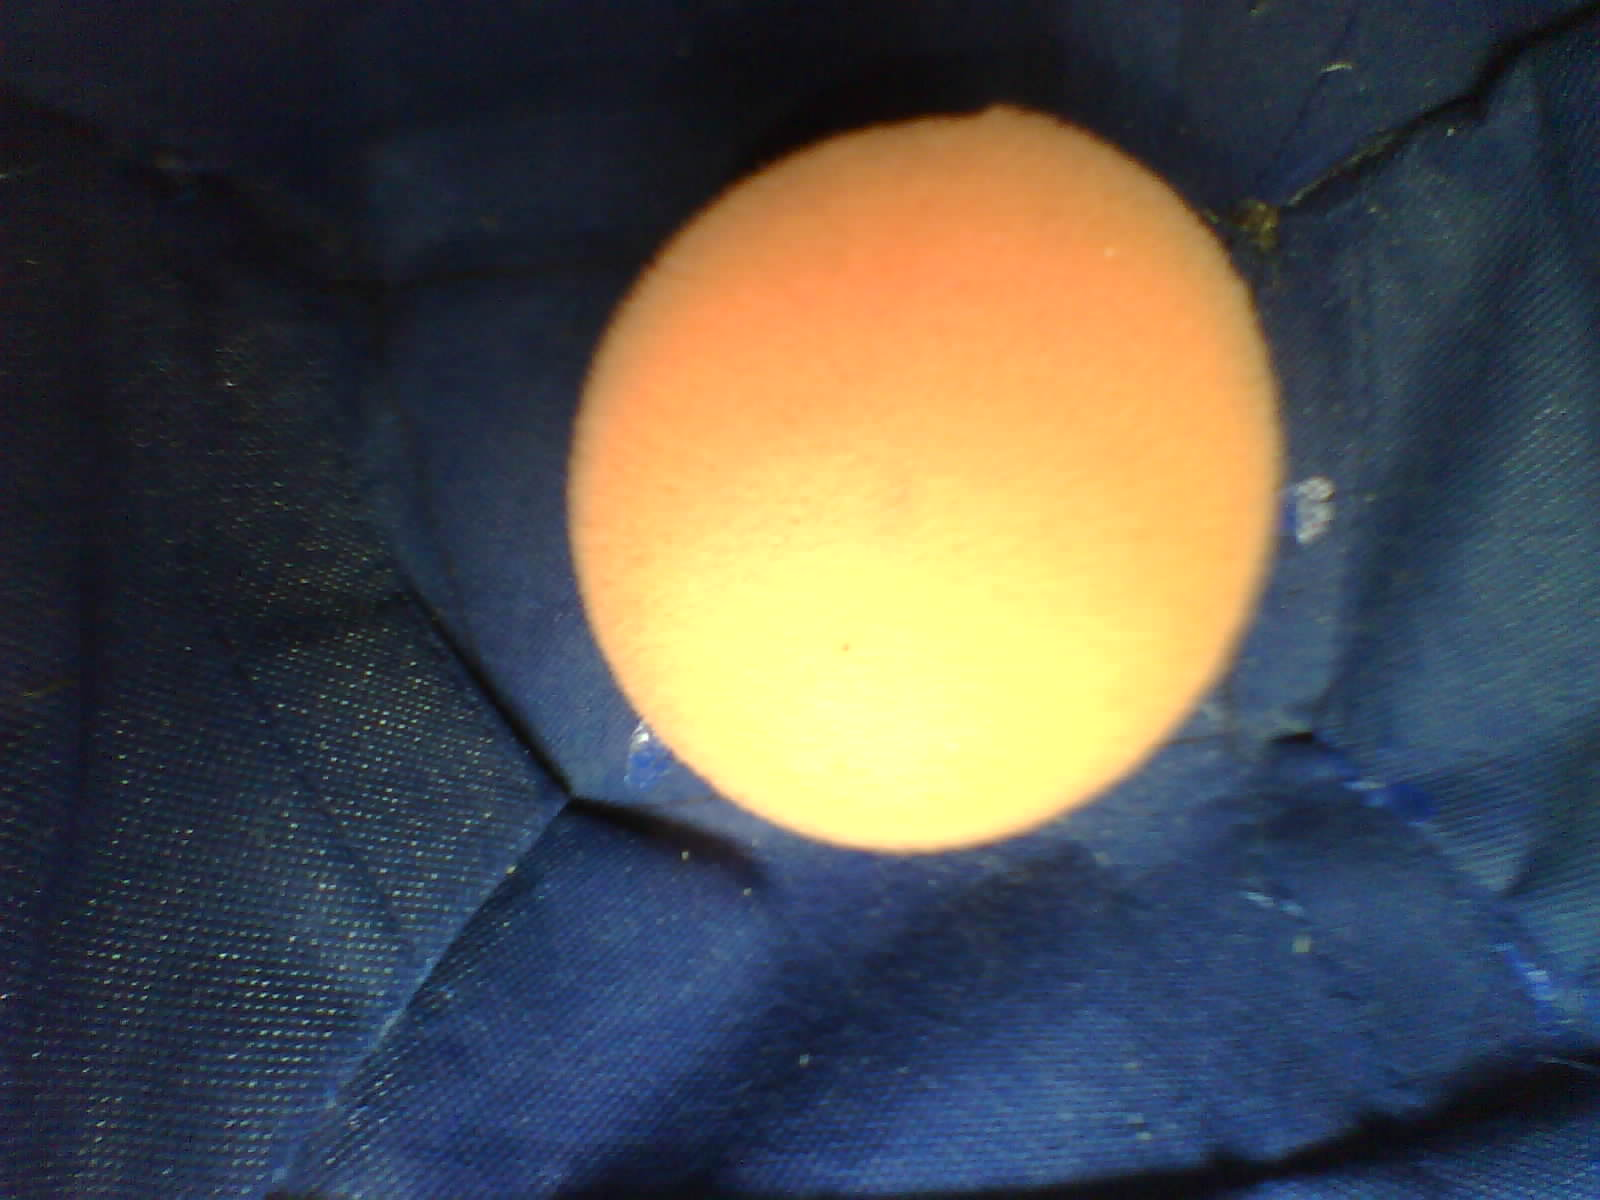cylinder-soft: (552, 102, 1317, 887)
